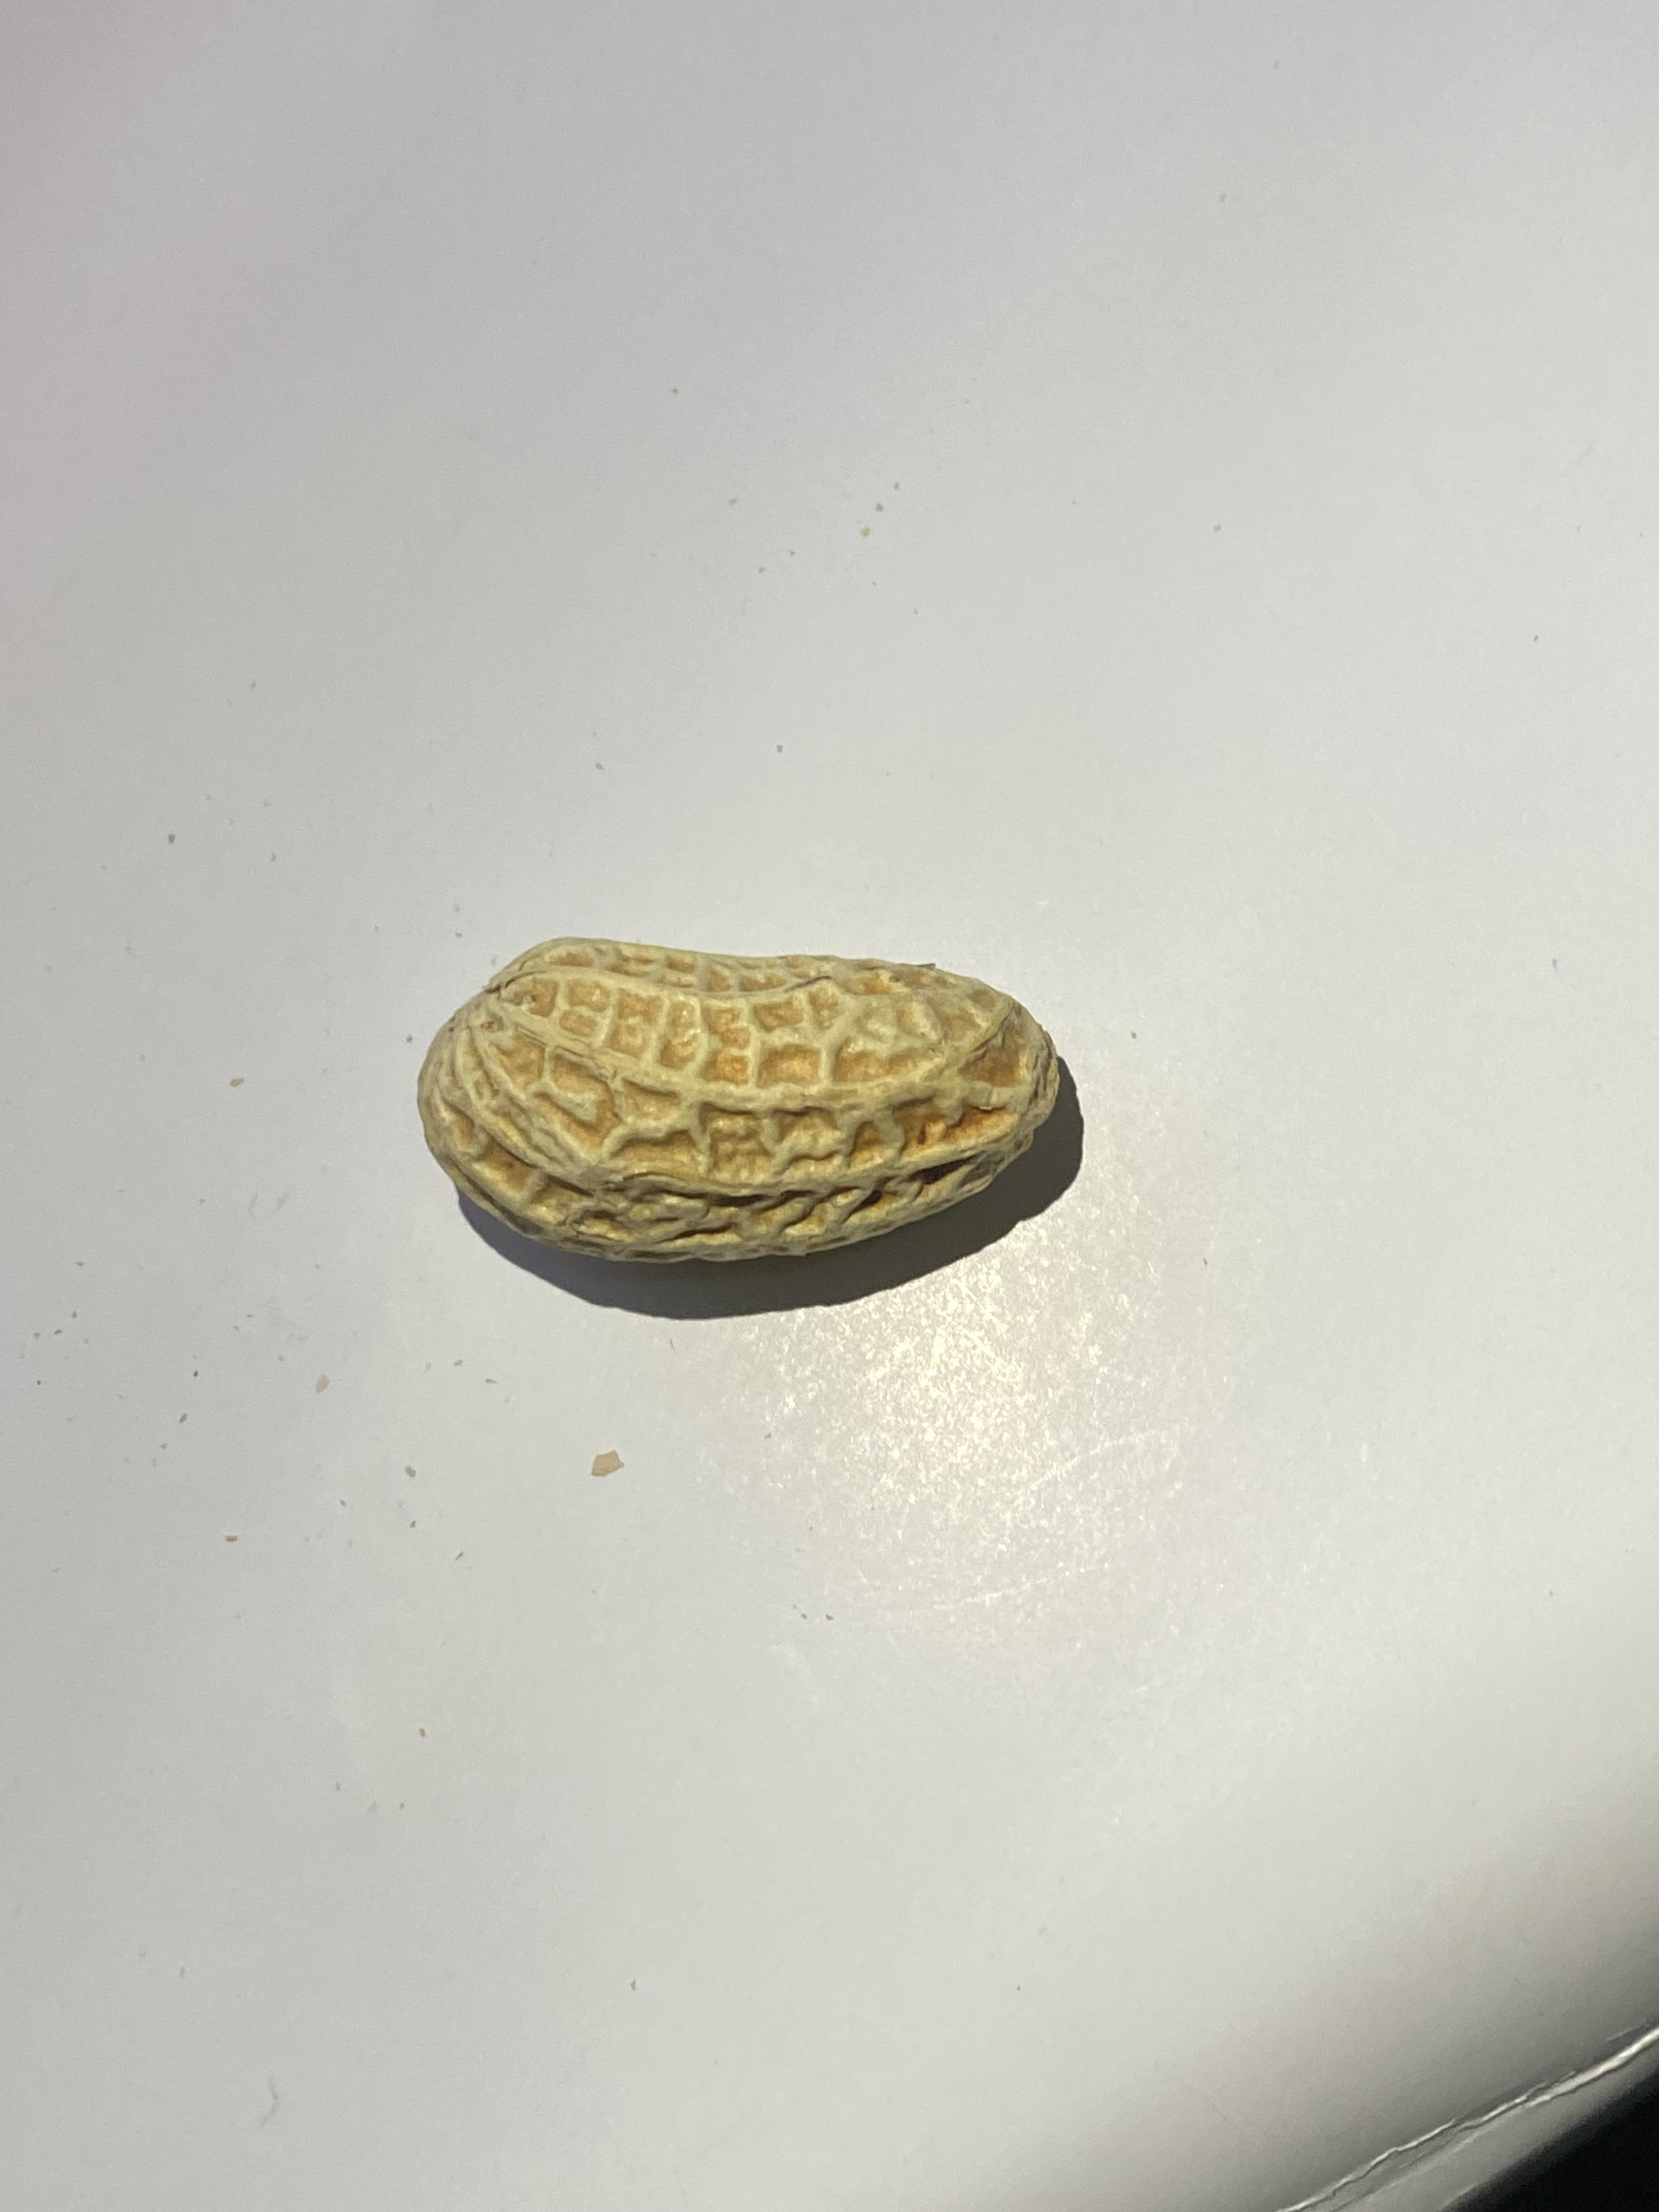kacang1: (396, 890, 1129, 1284)
